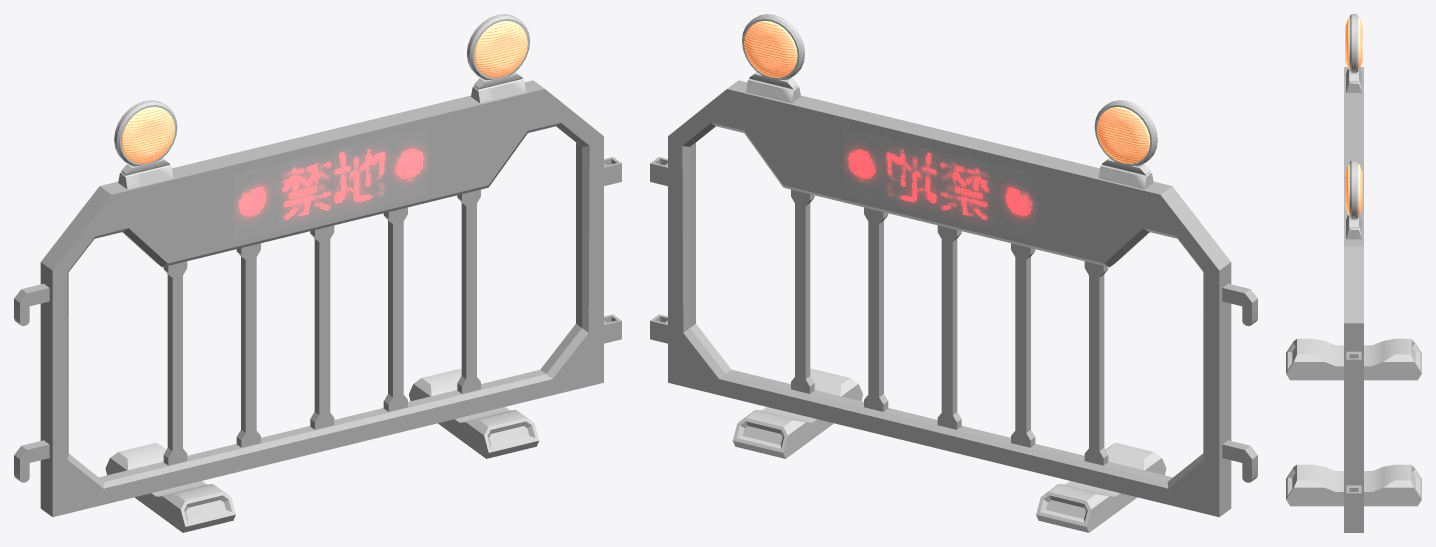
Rendered from KB3D_CPP_PropBarrier_B.fbx.
The picture shows the model from 3 angles, left to right: view 1: azimuth 30°, elevation 25°; view 2: azimuth 150°, elevation 25°; view 3: azimuth 270°, elevation 25°; orthographic projection. The views are drawn at different scales.
Parts seen in each view (by area): view 1: KB3D_CPP_PropBarrier_B_Main; view 2: KB3D_CPP_PropBarrier_B_Main; view 3: KB3D_CPP_PropBarrier_B_Main.
Part boxes in pixels (box(x1,y1,x2,y2)): KB3D_CPP_PropBarrier_B_Main: box(14, 14, 621, 532); KB3D_CPP_PropBarrier_B_Main: box(650, 14, 1257, 532); KB3D_CPP_PropBarrier_B_Main: box(1286, 14, 1421, 532).
Bounding box in the file's own units: 186 × 119 × 42.87.
